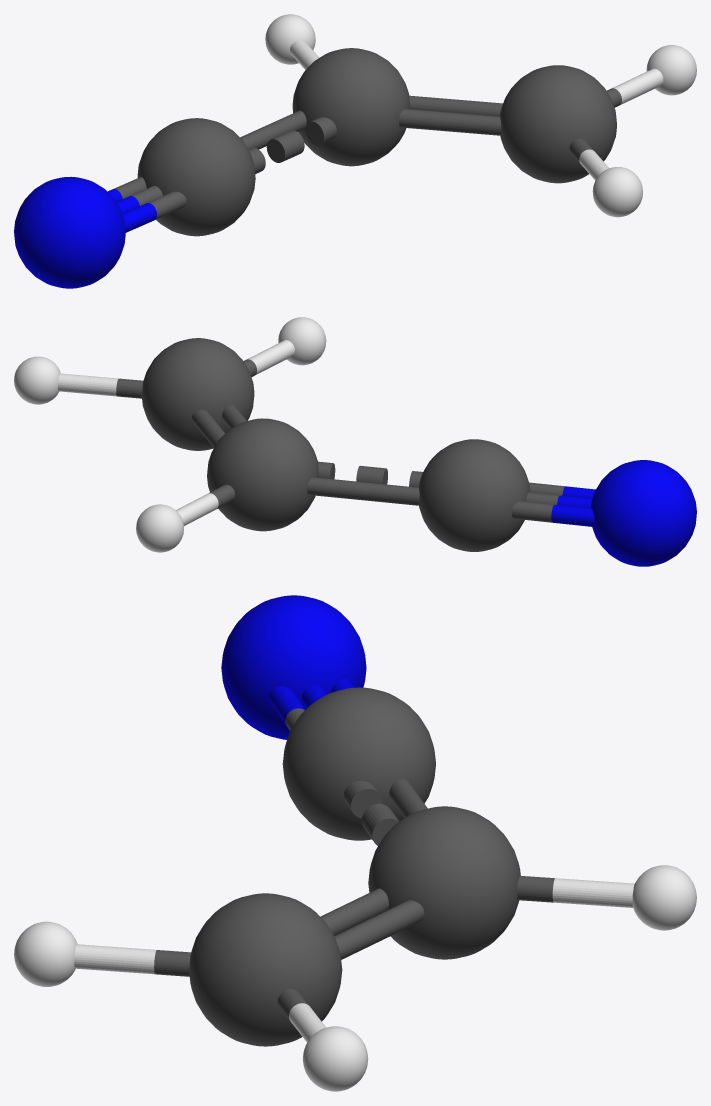
File: acrylonitrile.fbx
3 views of the same model, one above another, from view 1: azimuth 30°, elevation 25°; view 2: azimuth 150°, elevation 25°; view 3: azimuth 270°, elevation 25° (orthographic). The views are drawn at different scales.
Parts seen in each view (by area): view 1: C04, C03, C01, N02, C03=C04.001, C01-=C03, C01#N02.001, H07, H06, H05, C04-H06, C04-H07 (+1 smaller); view 2: C01, C03, N02, C04, C01-=C03, C01#N02.001, H05, H06, H07, C04-H06, C03-H05, C03=C04.001 (+1 smaller); view 3: C04, C03, C01, N02, C03=C04.001, H06, H05, H07, C03-H05, C04-H07, C01-=C03, C01#N02.001 (+1 smaller).
Part boxes in pixels (x1,y1,x2,y2): C04: [499, 65, 616, 183]; C03: [292, 48, 410, 166]; C01: [137, 118, 255, 236]; N02: [14, 177, 125, 288]; C03=C04.001: [399, 95, 502, 135]; C01-=C03: [240, 110, 336, 173]; C01#N02.001: [107, 177, 186, 232]; H07: [592, 167, 642, 217]; H06: [646, 45, 696, 95]; H05: [265, 14, 315, 64]; C04-H06: [607, 68, 663, 107]; C04-H07: [569, 138, 608, 180]; C01: [419, 439, 530, 551]; C03: [207, 418, 318, 531]; N02: [591, 460, 696, 566]; C04: [141, 338, 254, 450]; C01-=C03: [307, 461, 422, 505]; C01#N02.001: [511, 482, 595, 526]; H05: [136, 504, 183, 552]; H06: [14, 356, 60, 404]; H07: [278, 317, 326, 365]; C04-H06: [58, 373, 143, 398]; C03-H05: [176, 484, 234, 525]; C03=C04.001: [192, 405, 246, 447]; C04: [189, 893, 342, 1046]; C03: [368, 806, 520, 959]; C01: [282, 687, 435, 840]; N02: [221, 595, 366, 739]; C03=C04.001: [320, 888, 424, 959]; H06: [303, 1026, 368, 1091]; H05: [632, 865, 696, 930]; H07: [14, 921, 77, 986]; C03-H05: [517, 876, 634, 907]; C04-H07: [74, 944, 191, 976]; C01-=C03: [343, 779, 427, 845]; C01#N02.001: [268, 678, 353, 730].
Size of the model in its own units: 504 by 75.01 by 334.
